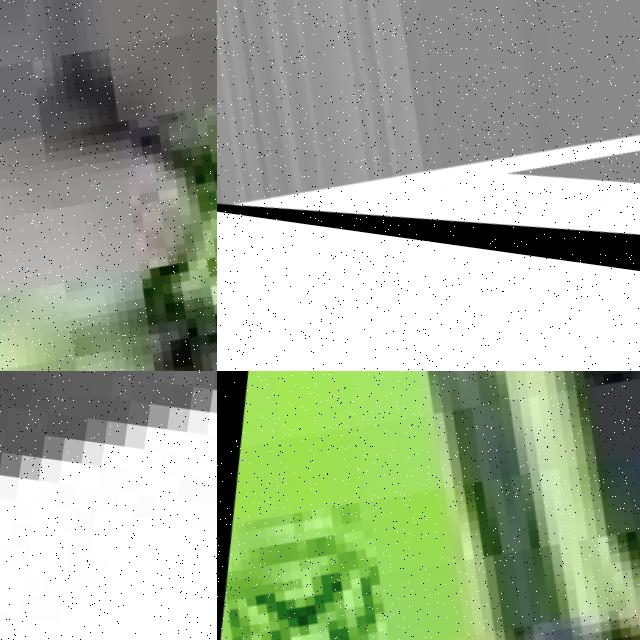drone: (217, 0, 640, 281), (217, 371, 640, 640), (0, 0, 217, 371)
